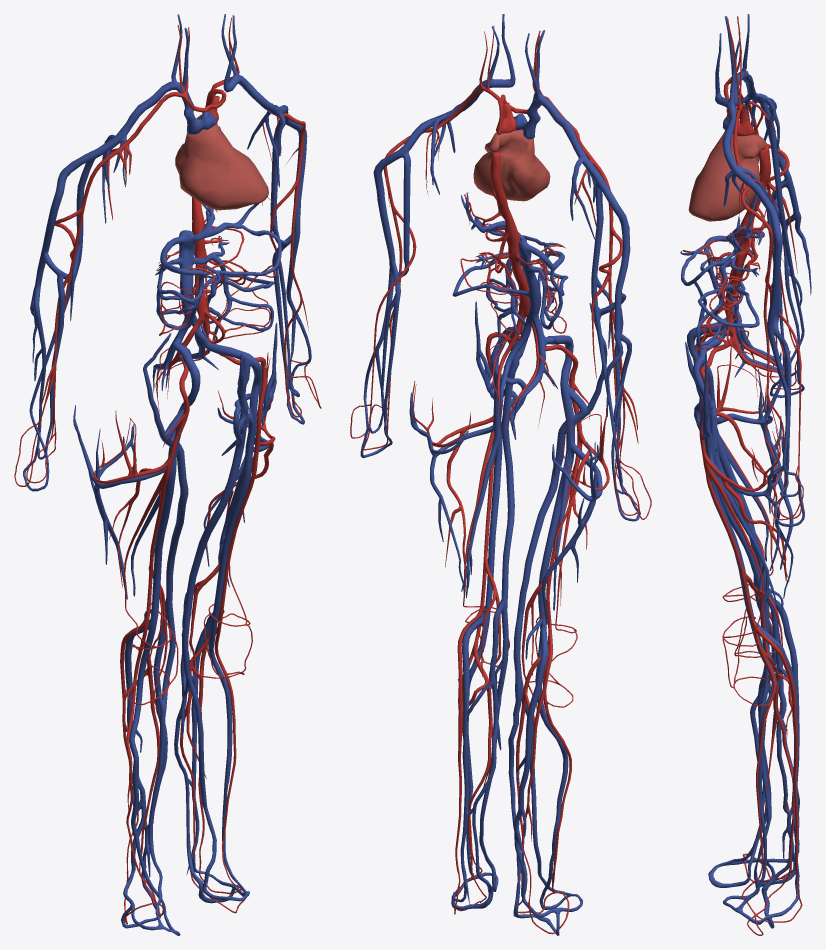
The model's file is icrp_adult_male.cardiovascular.LOD2.glb.
The picture shows the model from 3 angles, left to right: view 1: azimuth 30°, elevation 25°; view 2: azimuth 150°, elevation 25°; view 3: azimuth 270°, elevation 25°; orthographic projection. The views are drawn at different scales.
Parts seen in each view (by area): view 1: ICRP.ADULT.MALE.CARDIOVASCULAR.BLOOD_IN_LARGE_VEINS, ICRP.ADULT.MALE.CARDIOVASCULAR.BLOOD_IN_LARGE_ARTERIES, ICRP.ADULT.MALE.CARDIOVASCULAR.HEART_WALL; view 2: ICRP.ADULT.MALE.CARDIOVASCULAR.BLOOD_IN_LARGE_VEINS, ICRP.ADULT.MALE.CARDIOVASCULAR.BLOOD_IN_LARGE_ARTERIES, ICRP.ADULT.MALE.CARDIOVASCULAR.HEART_WALL; view 3: ICRP.ADULT.MALE.CARDIOVASCULAR.BLOOD_IN_LARGE_VEINS, ICRP.ADULT.MALE.CARDIOVASCULAR.BLOOD_IN_LARGE_ARTERIES, ICRP.ADULT.MALE.CARDIOVASCULAR.HEART_WALL.
Boxes of the visible parts, box(x1,y1,x2,y2) form: ICRP.ADULT.MALE.CARDIOVASCULAR.BLOOD_IN_LARGE_VEINS: box(23, 14, 311, 935); ICRP.ADULT.MALE.CARDIOVASCULAR.BLOOD_IN_LARGE_ARTERIES: box(14, 17, 321, 924); ICRP.ADULT.MALE.CARDIOVASCULAR.HEART_WALL: box(175, 115, 268, 210); ICRP.ADULT.MALE.CARDIOVASCULAR.BLOOD_IN_LARGE_VEINS: box(360, 14, 640, 935); ICRP.ADULT.MALE.CARDIOVASCULAR.BLOOD_IN_LARGE_ARTERIES: box(350, 25, 651, 934); ICRP.ADULT.MALE.CARDIOVASCULAR.HEART_WALL: box(473, 129, 550, 201); ICRP.ADULT.MALE.CARDIOVASCULAR.BLOOD_IN_LARGE_VEINS: box(680, 14, 811, 928); ICRP.ADULT.MALE.CARDIOVASCULAR.BLOOD_IN_LARGE_ARTERIES: box(682, 16, 803, 935); ICRP.ADULT.MALE.CARDIOVASCULAR.HEART_WALL: box(688, 130, 766, 221).
Size of the model in its own units: 0.5431 by 1.58 by 0.2109.
